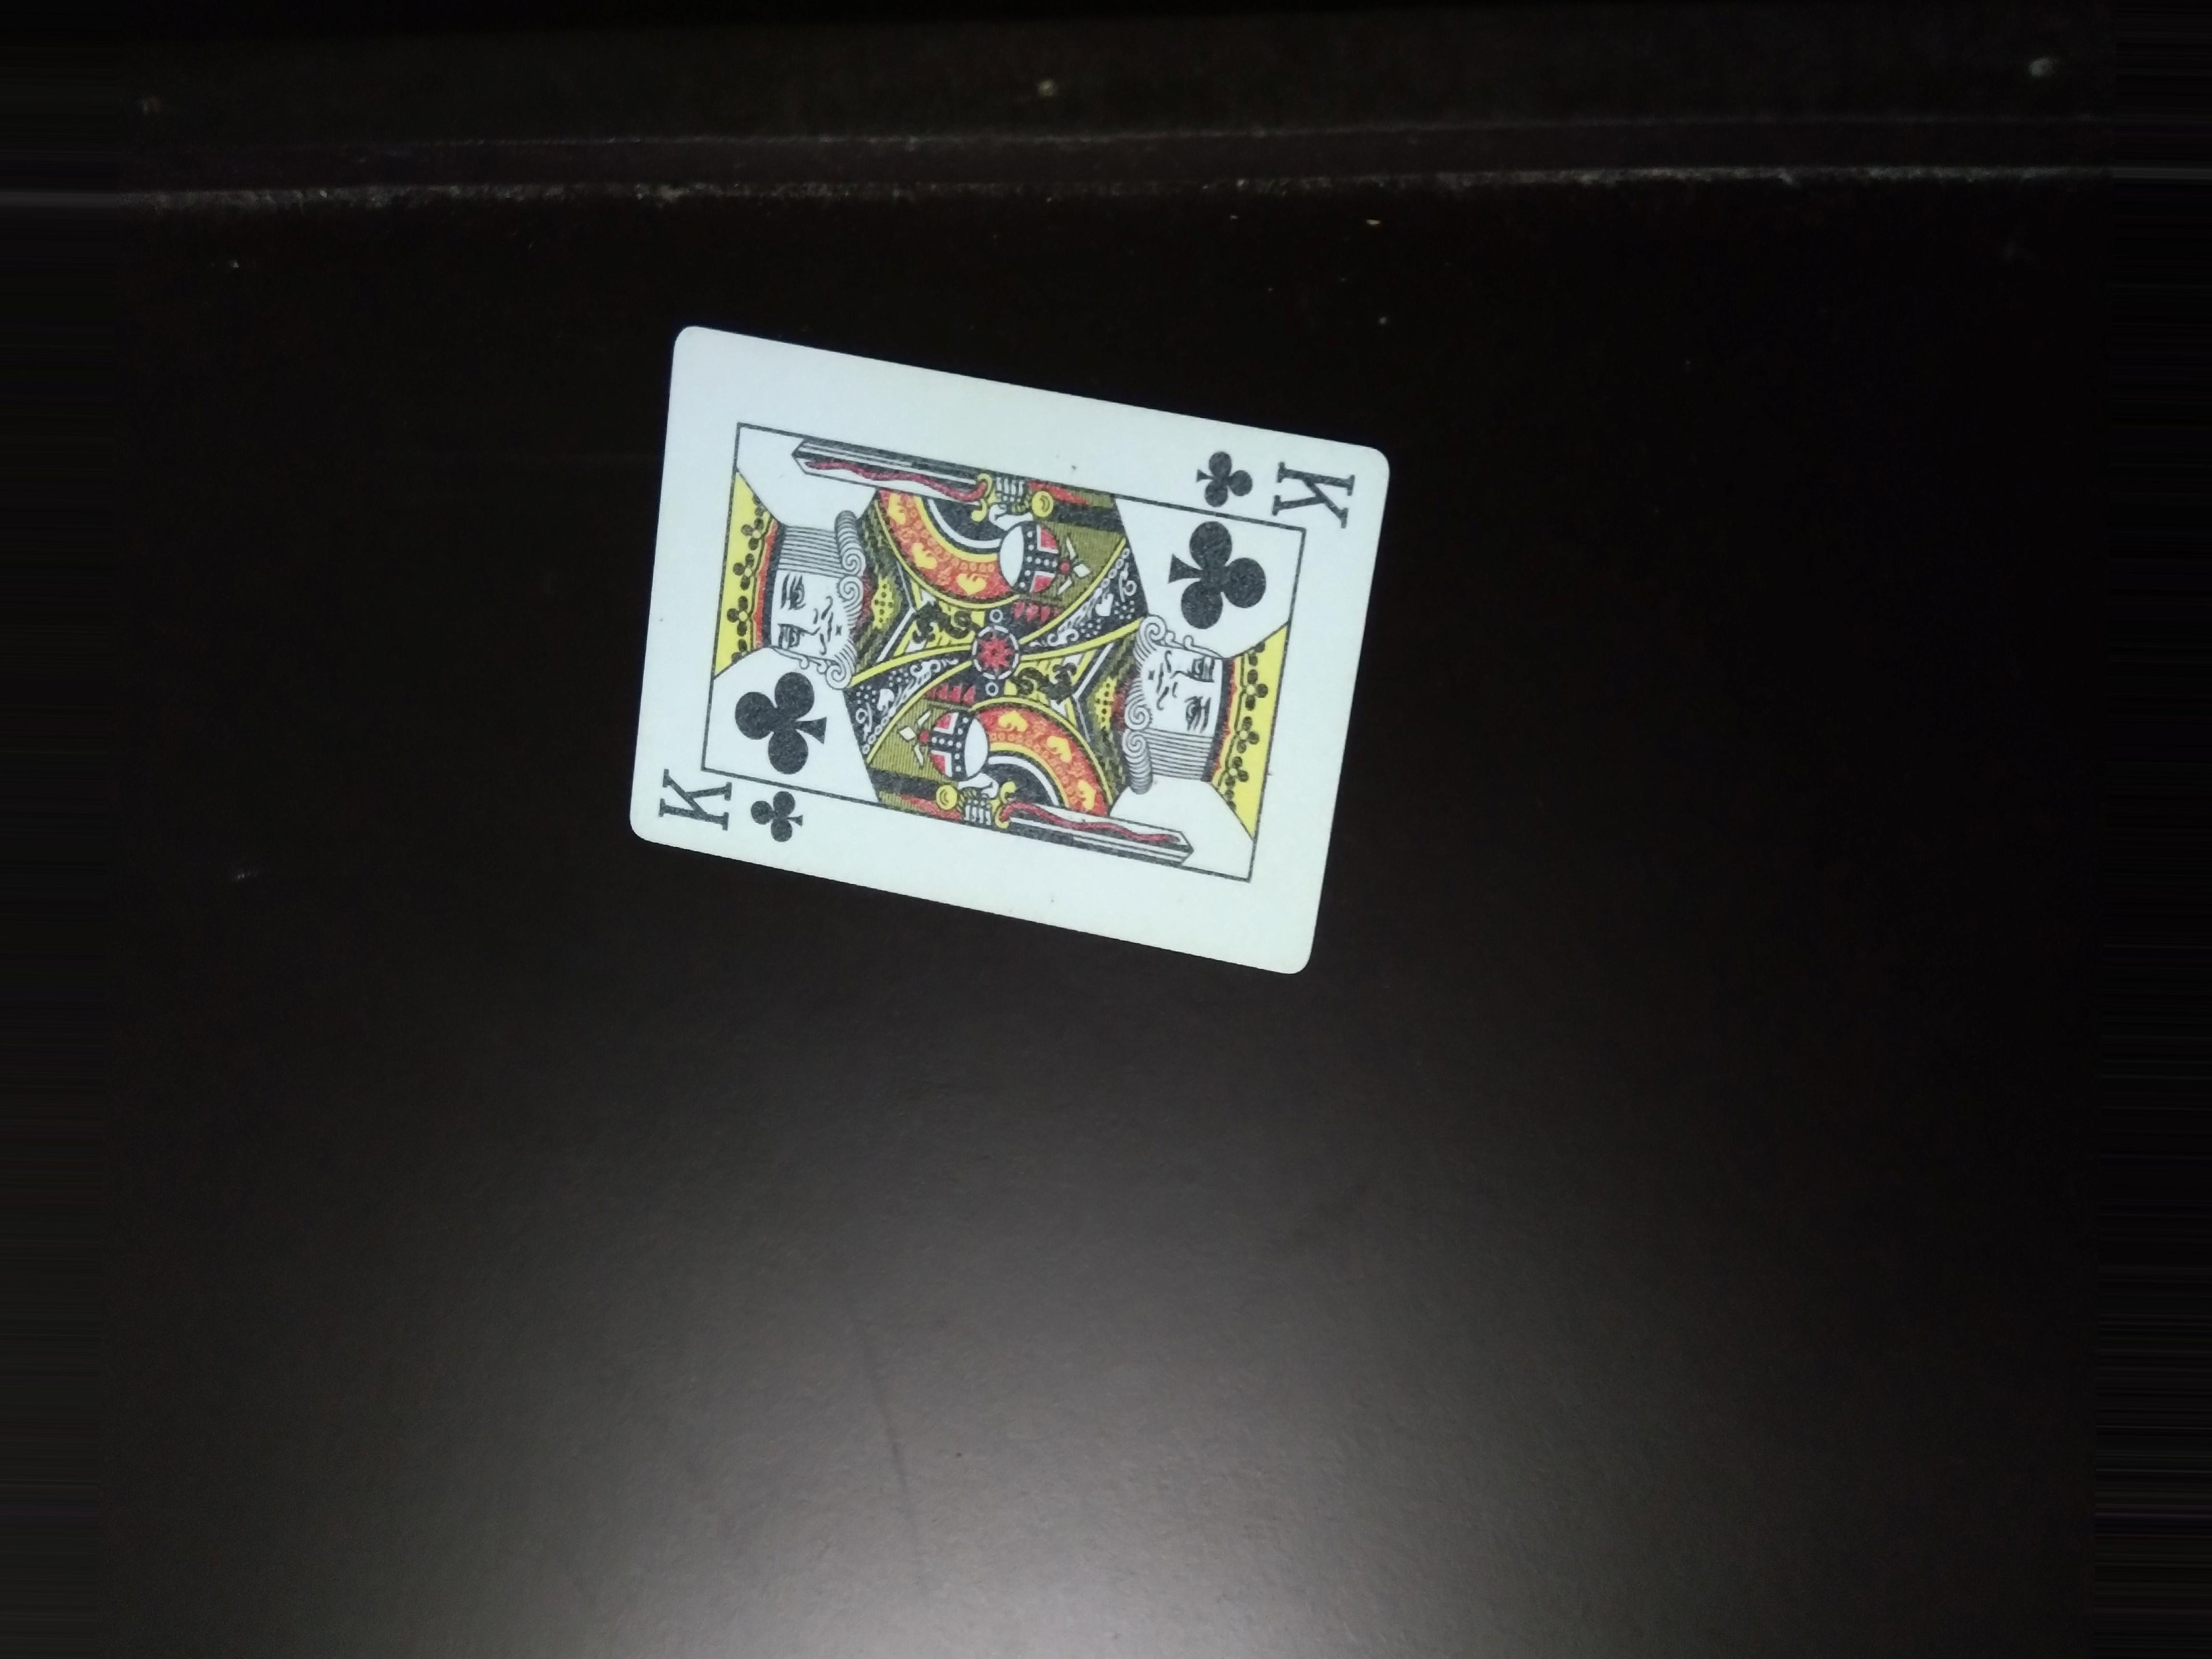KC: (648, 760, 843, 852)
